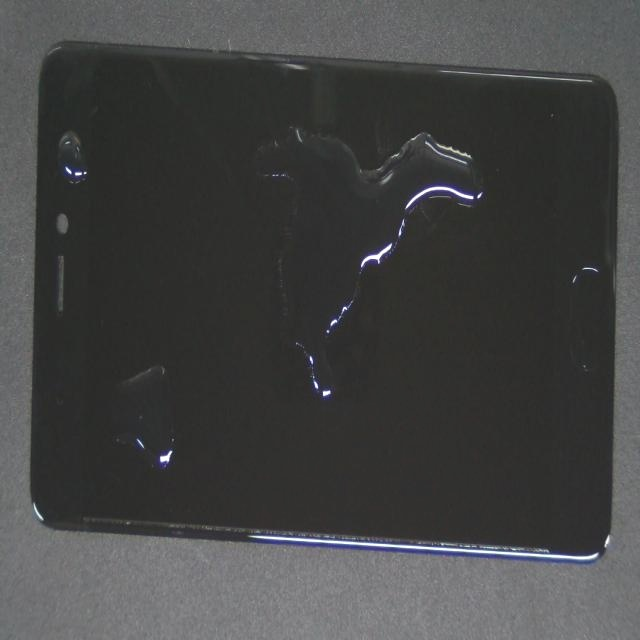oil: (111, 82, 409, 349), (106, 225, 257, 569)
